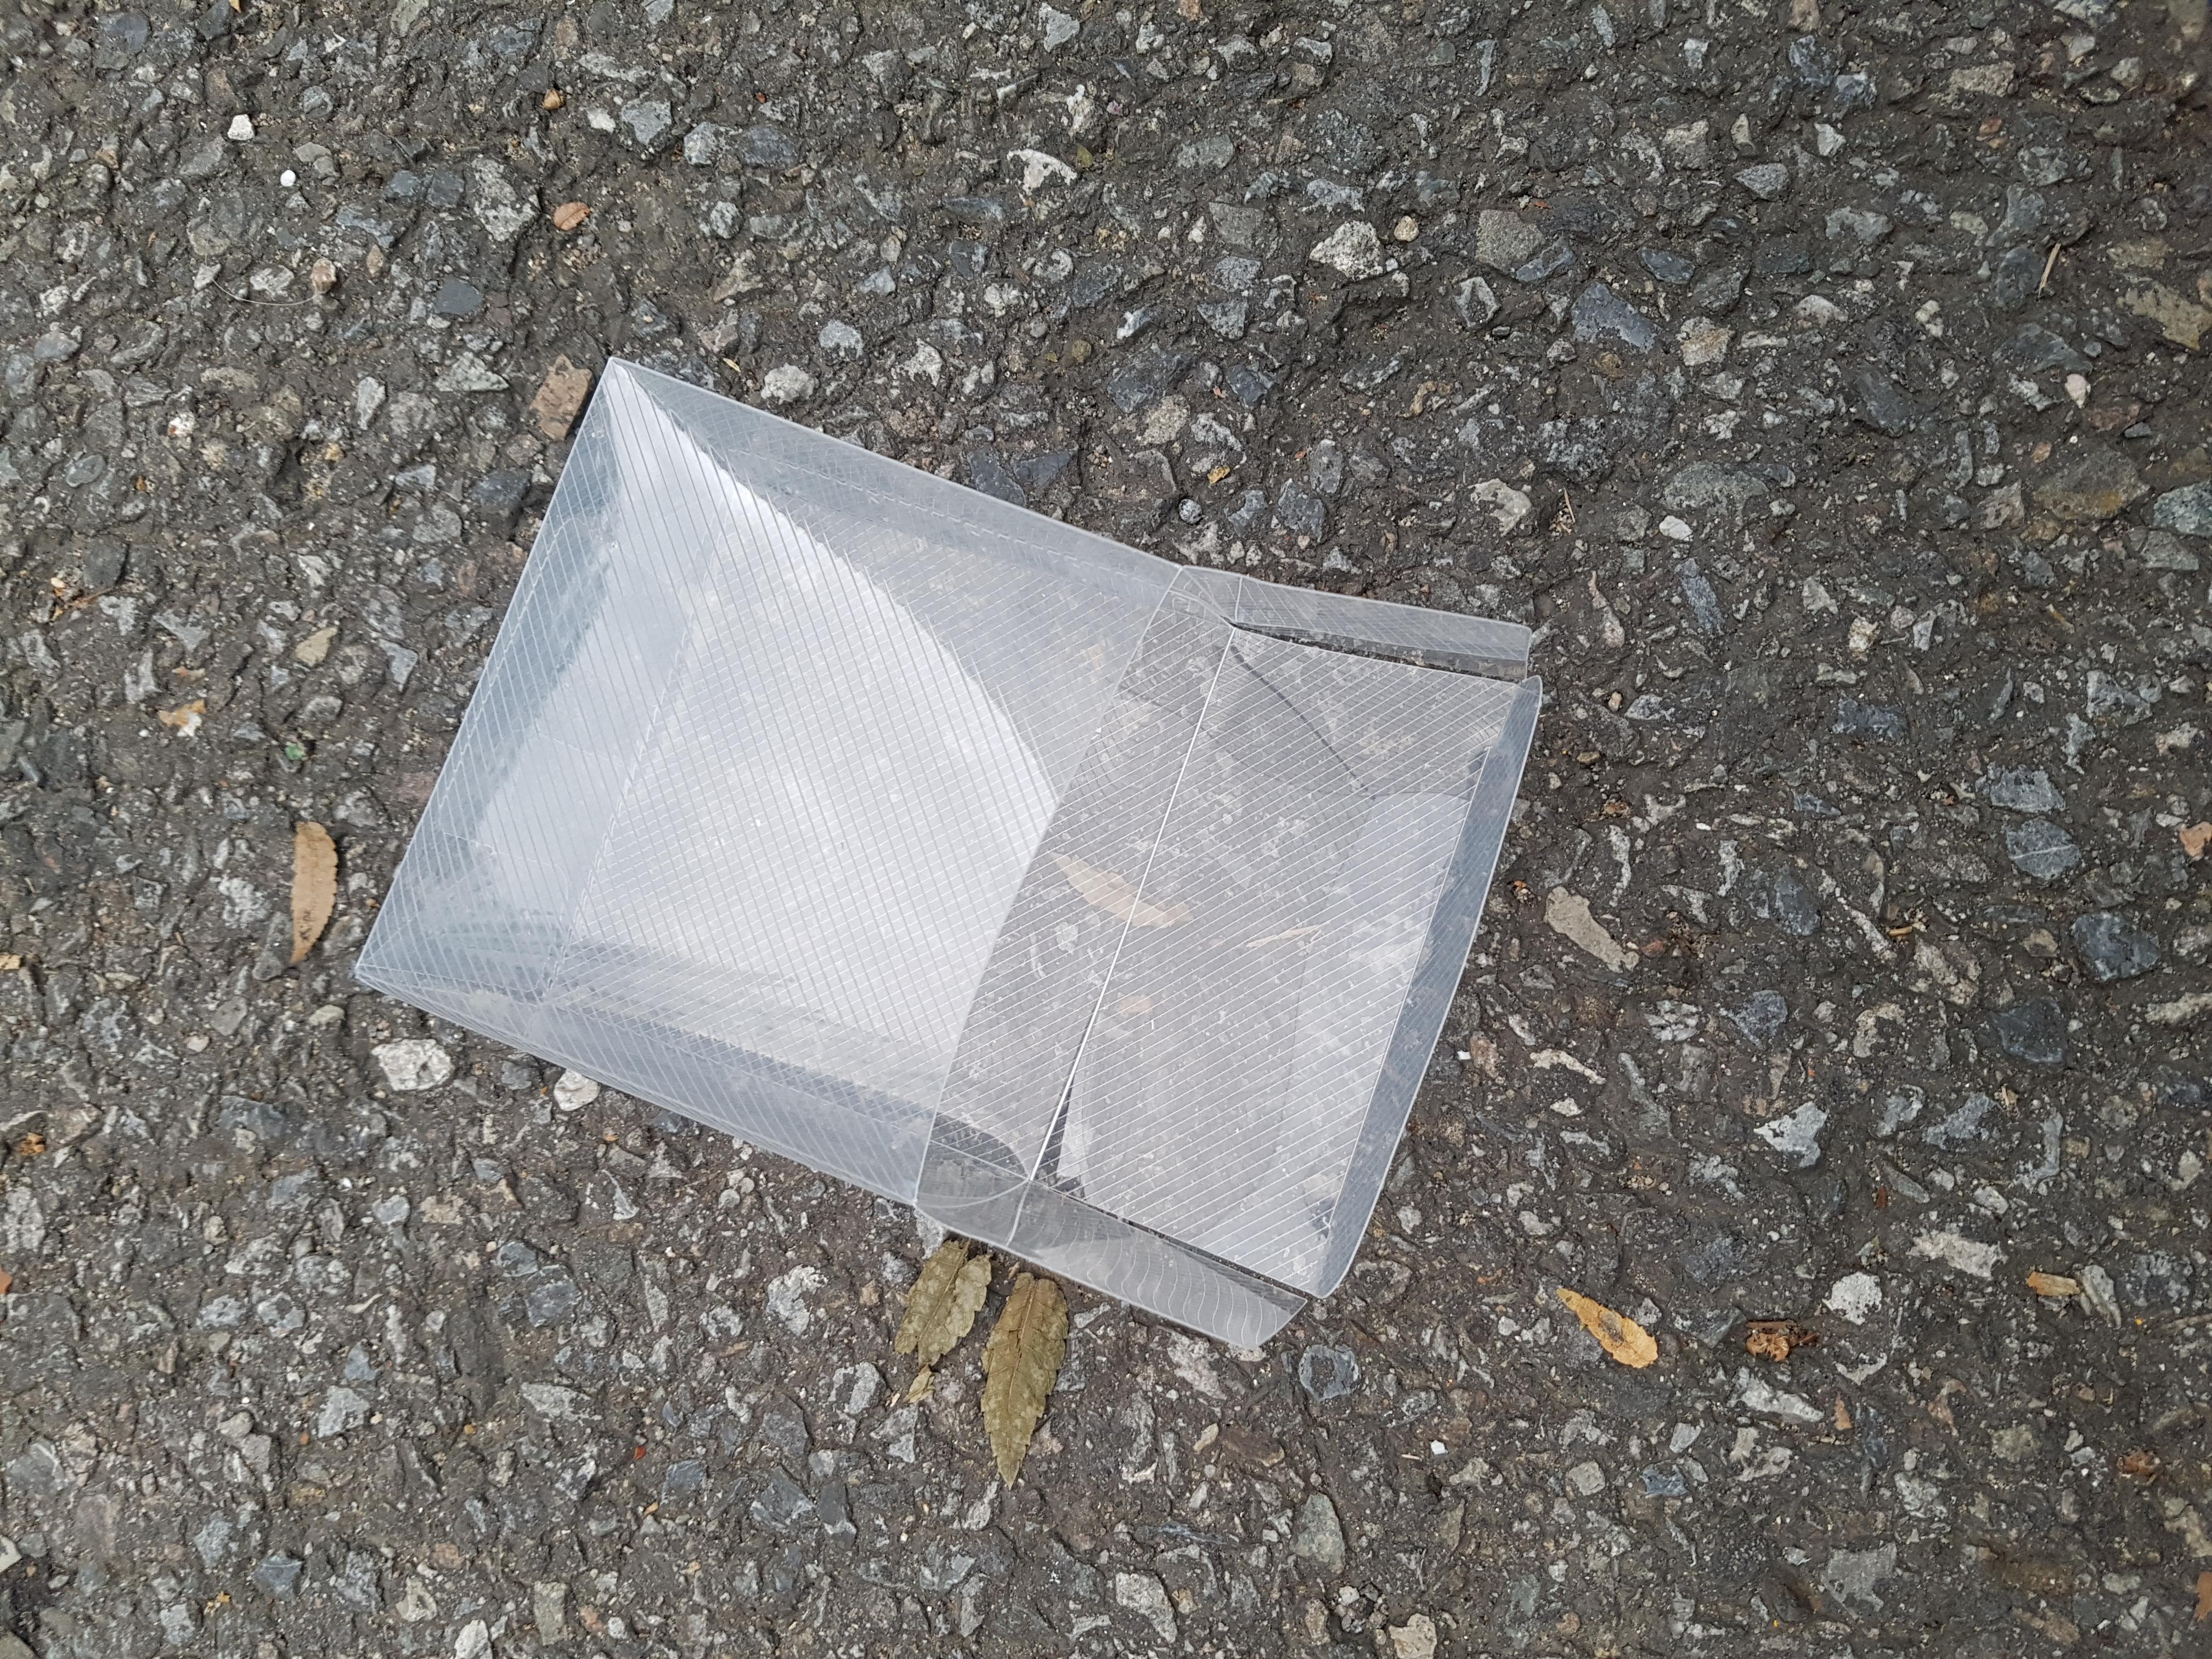bottle: (448, 207, 1834, 1256)
